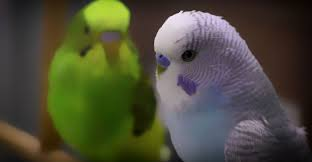budgie: (153, 11, 309, 162), (48, 1, 157, 162)
